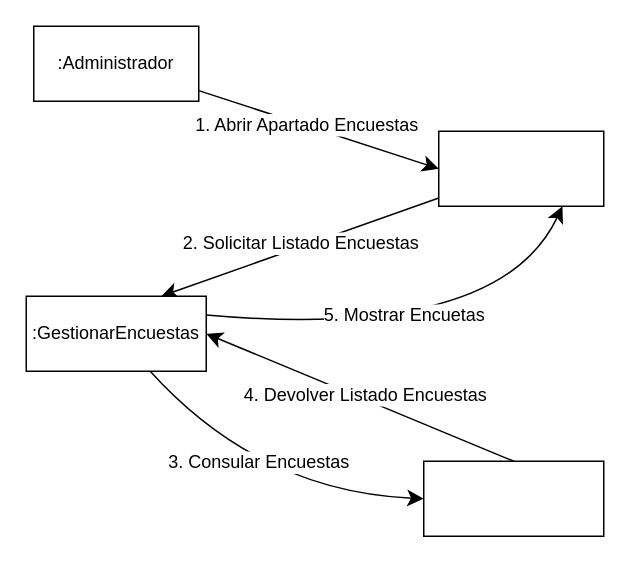
Image size: 630x563. Some labels were removed from this diagram. Each missing label, with the centre of its shape:
":BD_Encuestas" goes at point (513, 498).
":UI_Encuestas" goes at point (520, 168).
